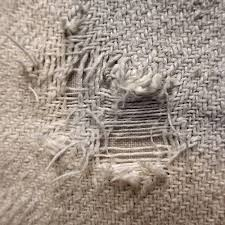Hole: (17, 20, 217, 207)
